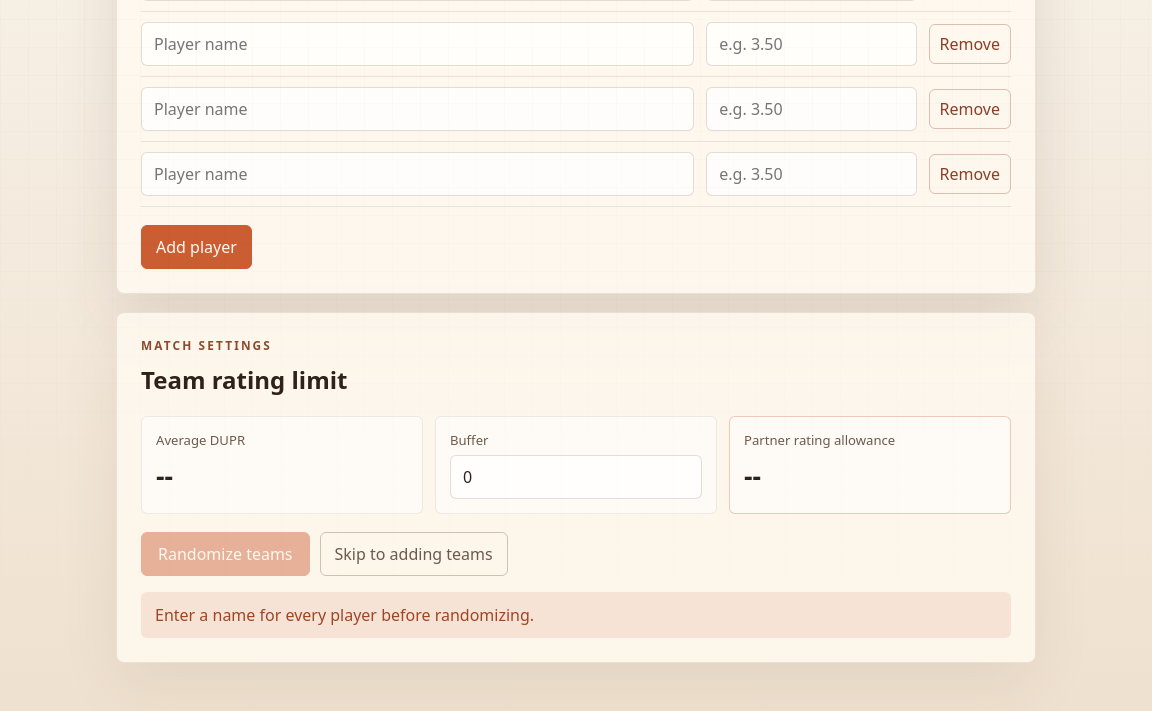
Scenario: TeamMatchingPageComponent › uses manually entered teams for pool randomization
(page scrolled)
Click the button "Skip to adding teams".
click(414, 554)  # box [320,532,508,576]
(page scrolled)
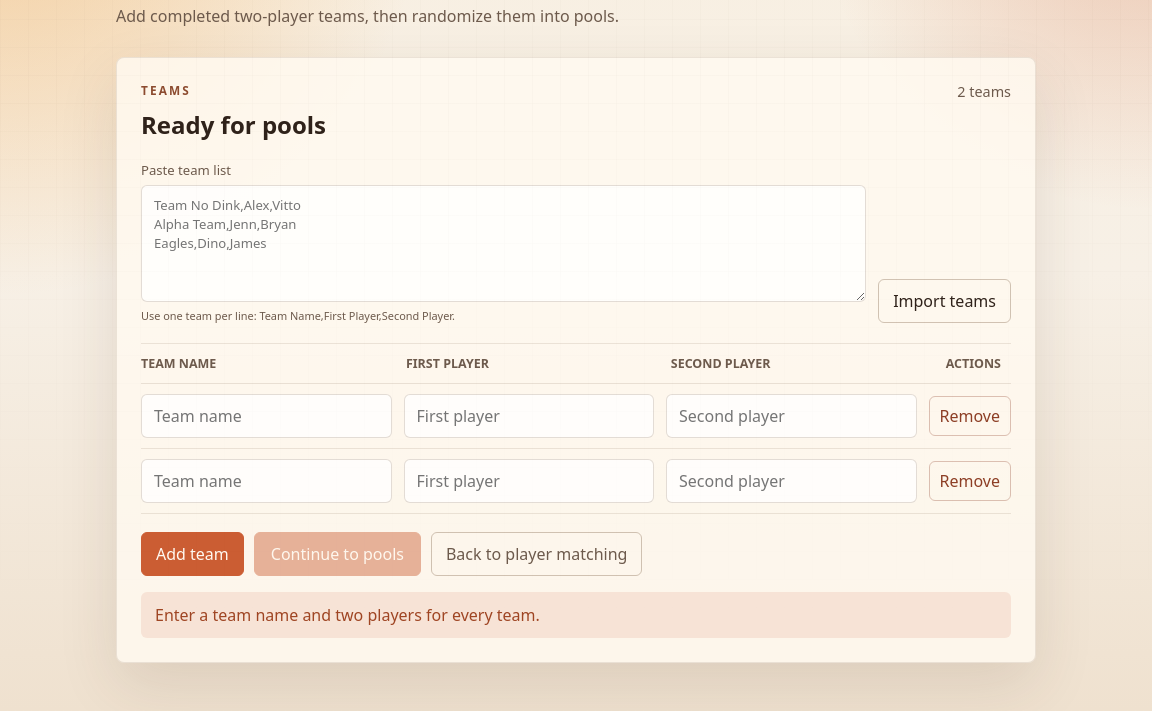
Type "Team One" into the 1st field with placeholder "Team name".
click(266, 416); type("Team One")  # box [141,394,392,438]
Type "Alex" into the 1st field with placeholder "First player".
click(529, 416); type("Alex")  # box [404,394,654,438]
Type "Vitto" into the 1st field with placeholder "Second player".
click(791, 416); type("Vitto")  # box [666,394,916,438]
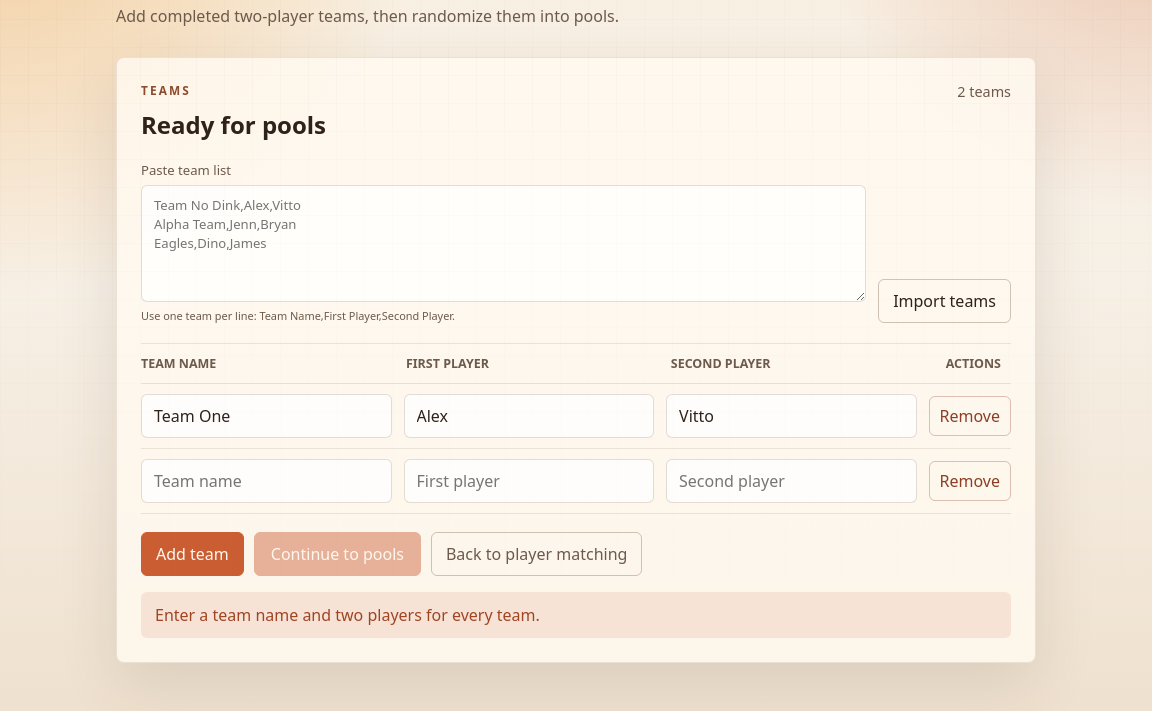
Type "Team Two" into the field with placeholder "Team name".
click(266, 481); type("Team Two")  # box [141,459,392,503]
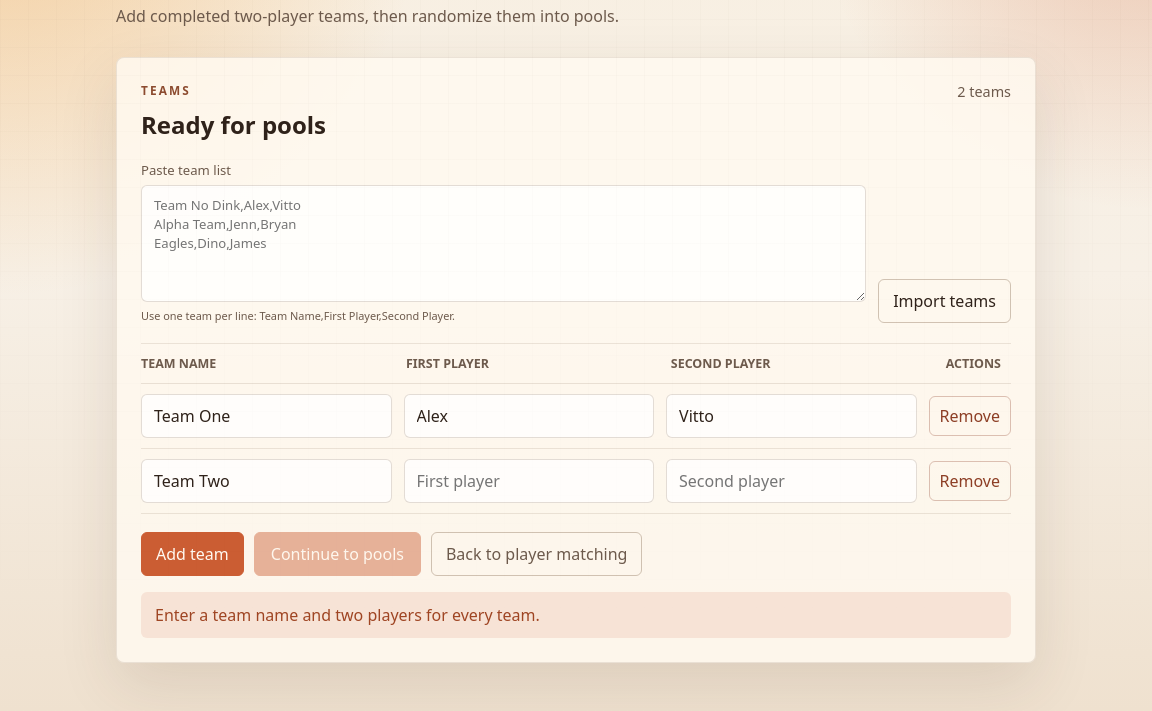
Type "Jenn" into the field with placeholder "First player".
click(529, 481); type("Jenn")  # box [404,459,654,503]
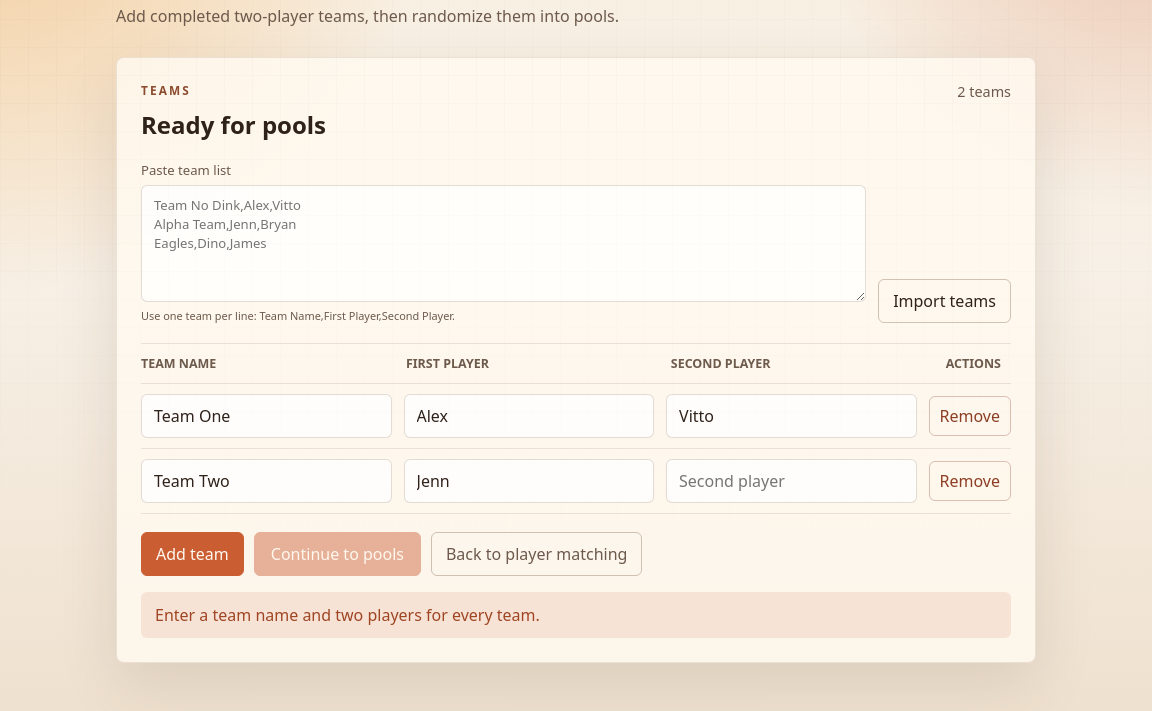
Type "Bryan" into the field with placeholder "Second player".
click(791, 481); type("Bryan")  # box [666,459,916,503]
(page scrolled)
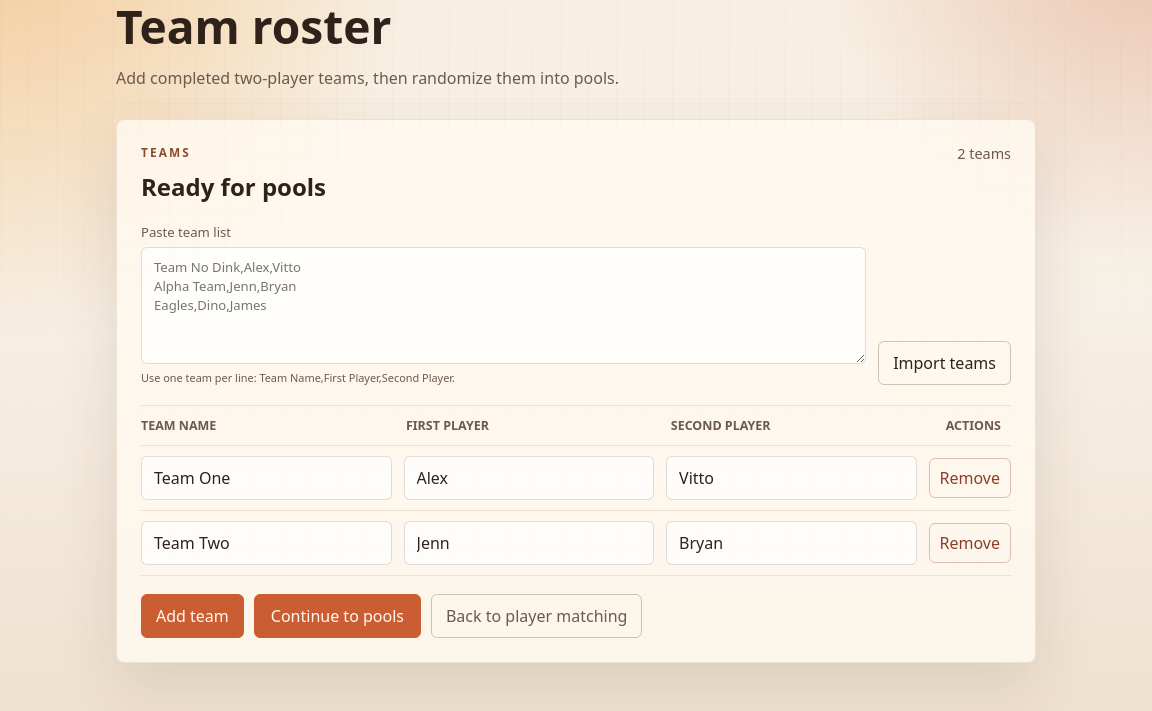
Click the button "Continue to pools".
click(337, 616)  # box [254,594,421,638]
(page scrolled)
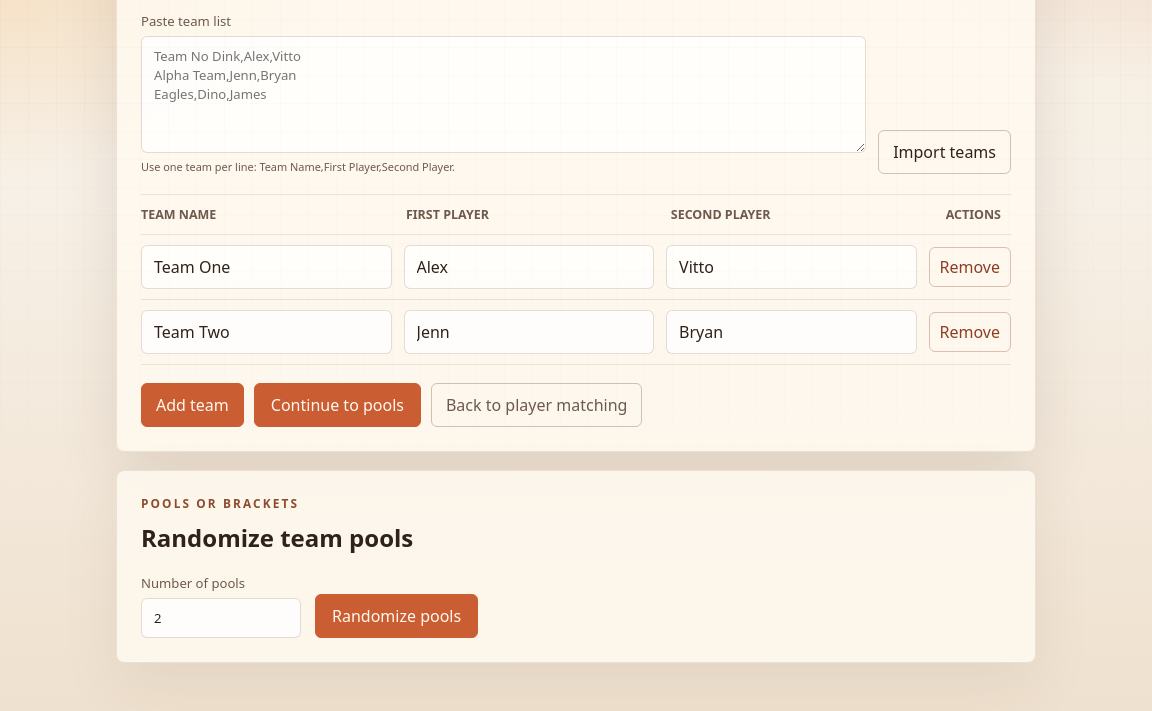
Check: the heading "Randomize team pools" is shown, box [141,521,413,554]
